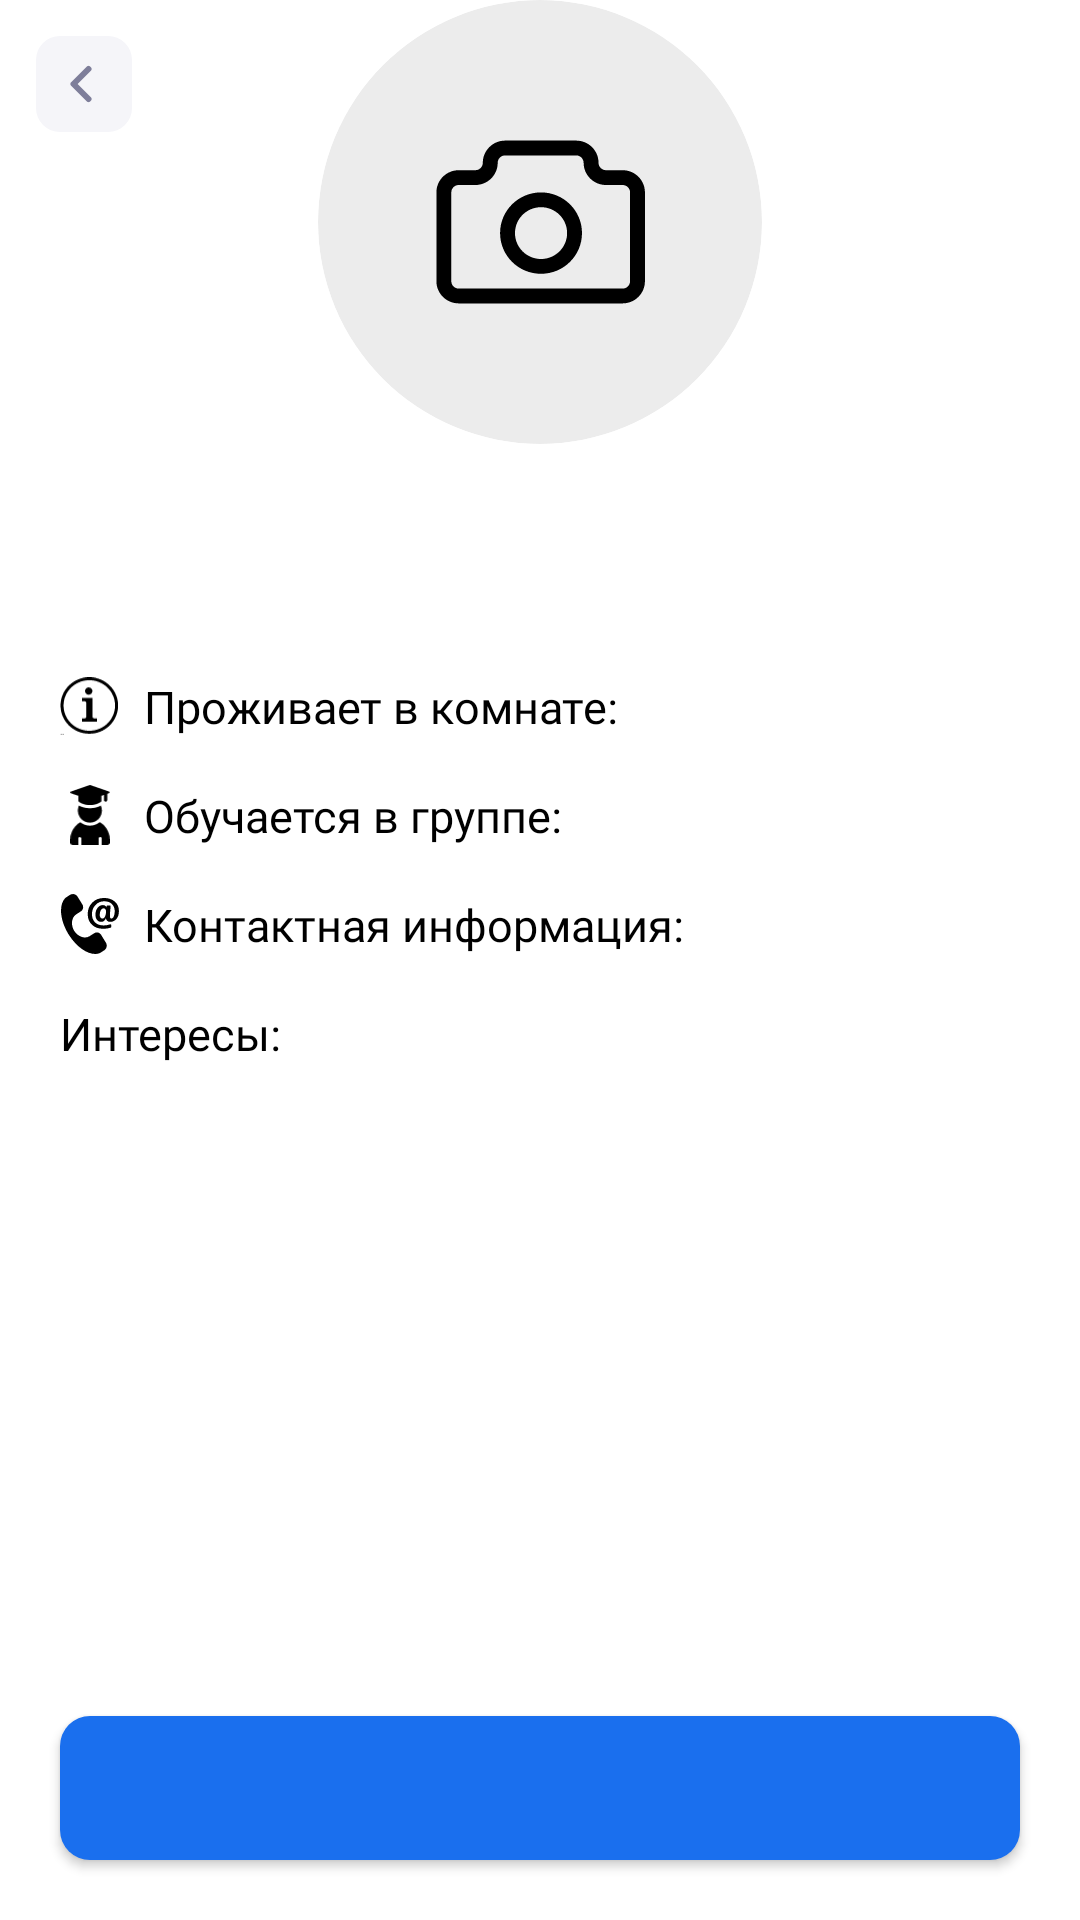

Point at icon controls on the screen. Image size 1080 x 1920, points as point (x, y).
back: point (84, 84)
contact: point (90, 924)
info: point (89, 706)
student: point (90, 815)
